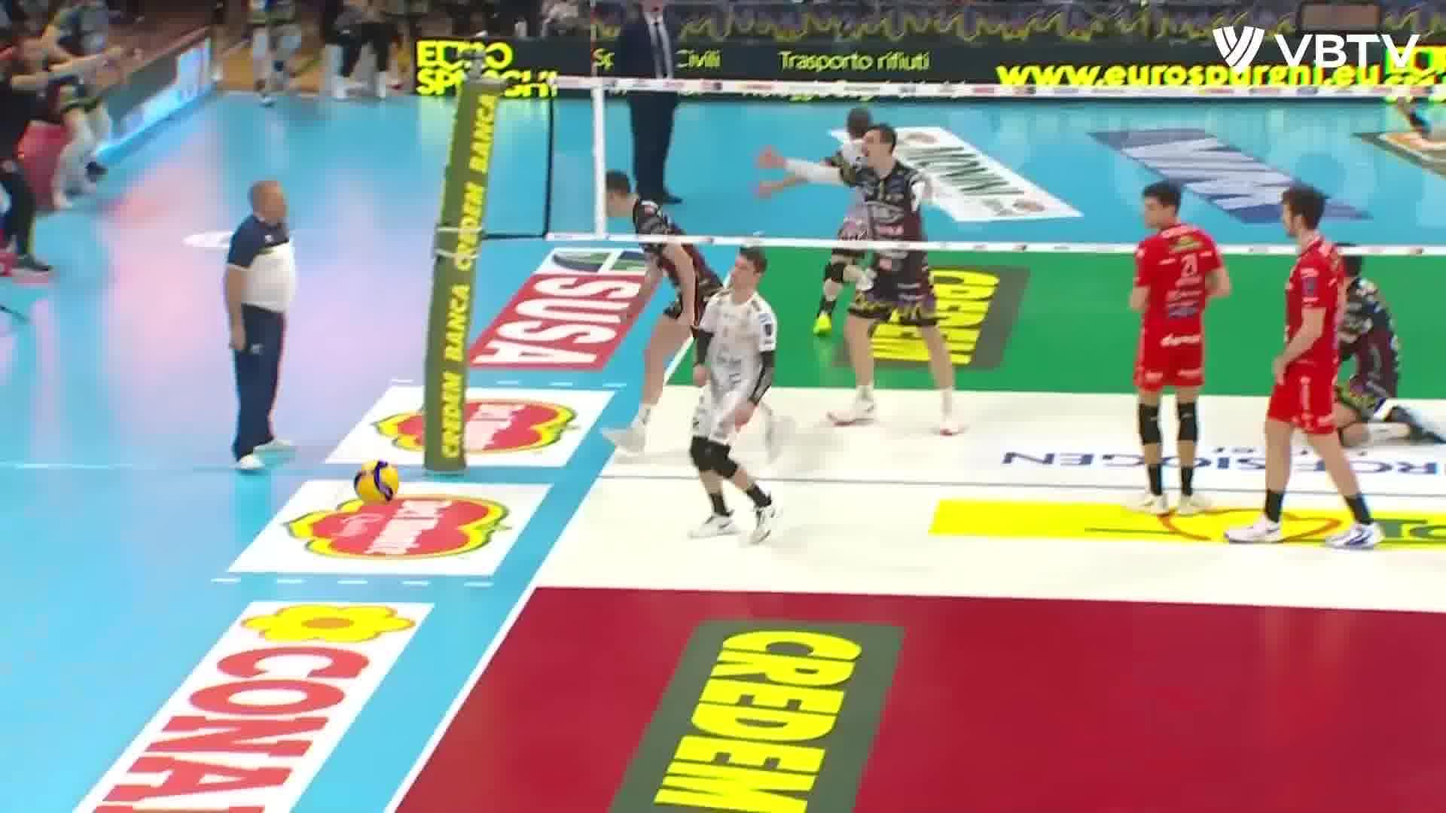balls: (355, 457, 400, 506)
